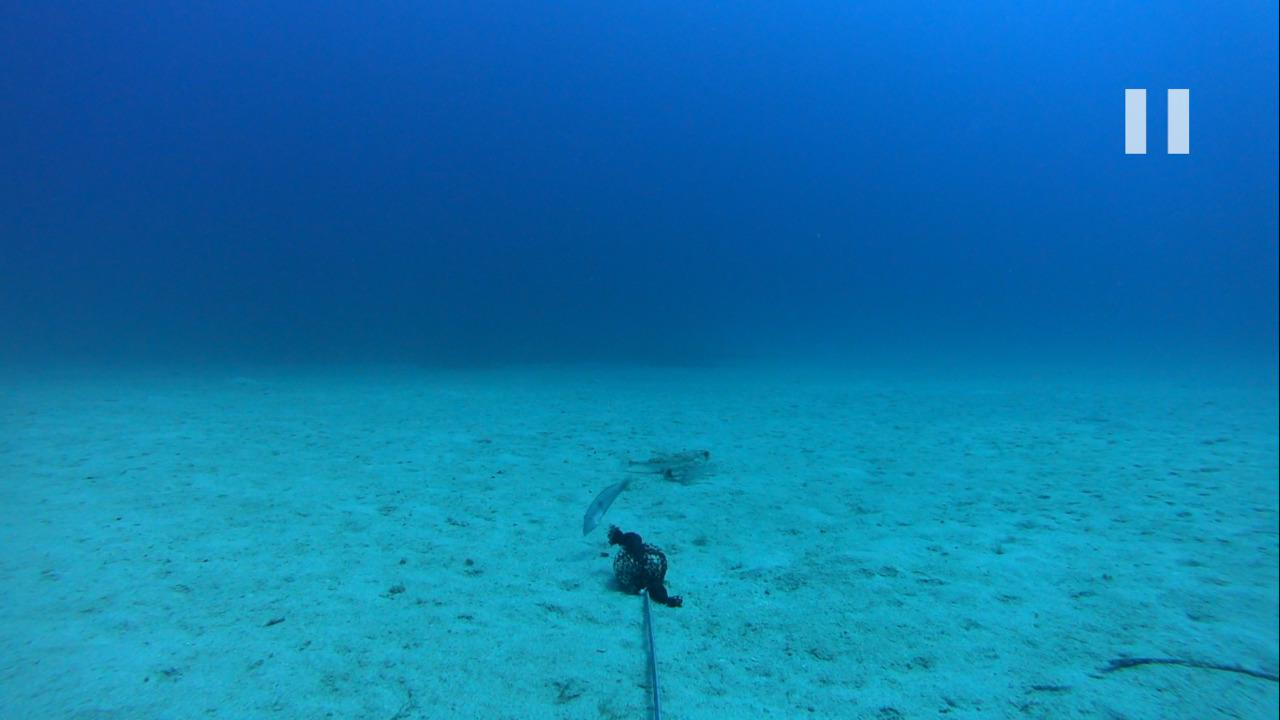dactylopterus: (616, 439, 726, 475)
raor: (577, 475, 636, 531)
